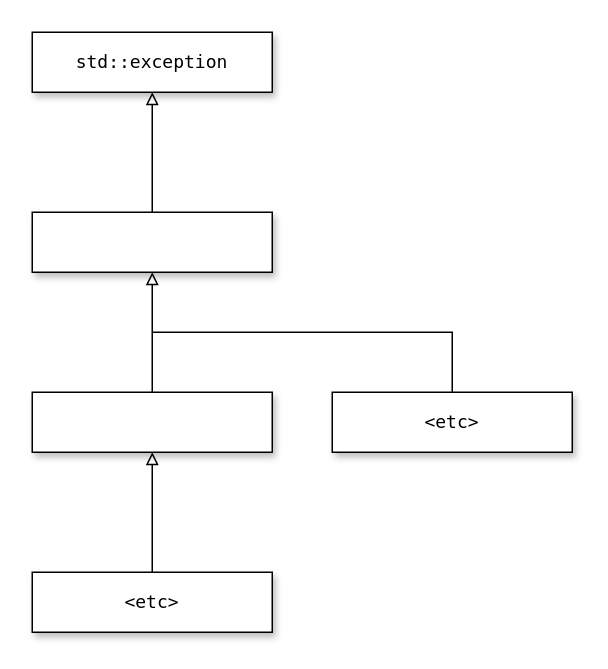
Image size: 608x669. Some labels were removed from this diagram. Each missing label, with the centre of its shape:
SolError: (x=153, y=244)
VulkanError: (x=153, y=424)
